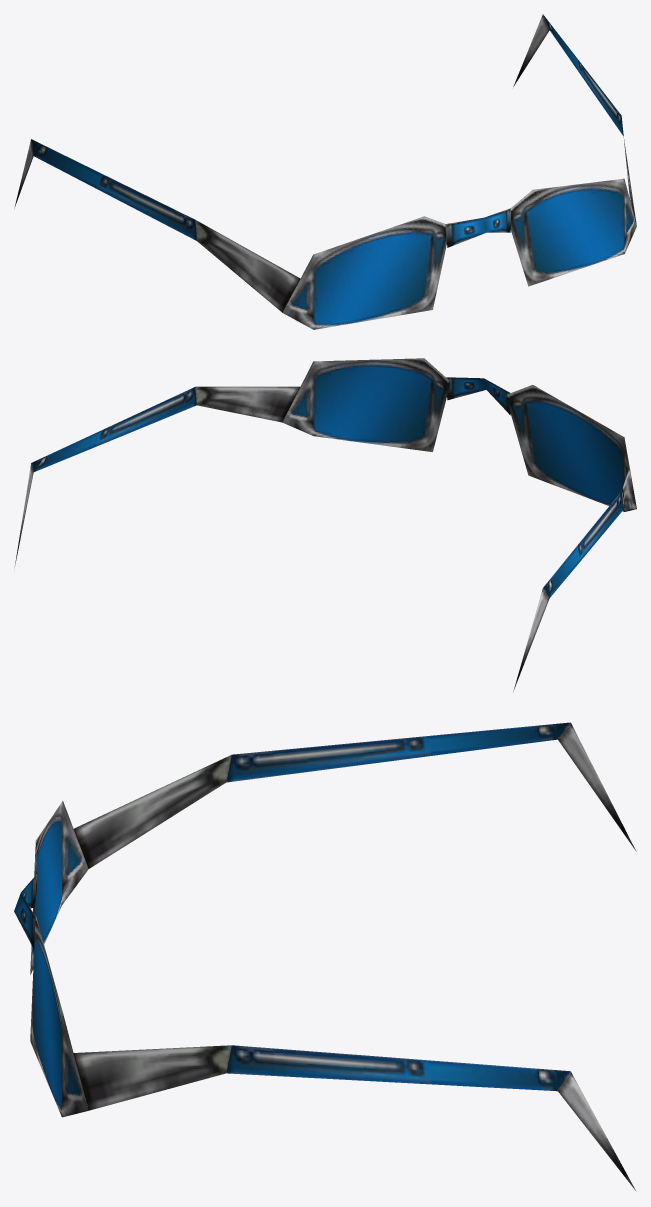
File: Glasses7.glb
3 views of the same model, one above another, from view 1: azimuth 30°, elevation 25°; view 2: azimuth 150°, elevation 25°; view 3: azimuth 270°, elevation 25° (orthographic). The views are drawn at different scales.
Parts seen in each view (by area): view 1: Glasses7; view 2: Glasses7; view 3: Glasses7.
Part boxes in pixels (<box>): Glasses7: <box>14,14,636,329</box>; Glasses7: <box>14,358,636,692</box>; Glasses7: <box>14,722,636,1191</box>.
Bounding box in the file's own units: 9.58 × 1.84 × 7.17.
Materials: 1 (1 with a texture image).
